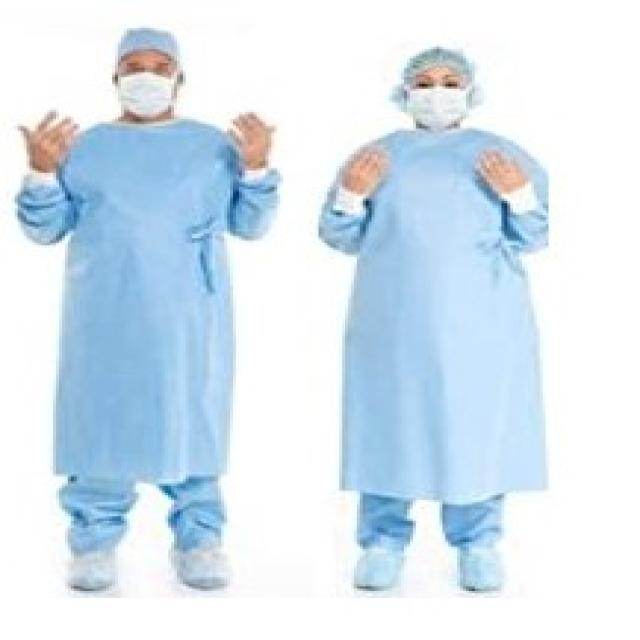Coverall: (9, 21, 286, 600), (313, 40, 563, 598)
Mask: (395, 79, 475, 131), (112, 68, 180, 114)
